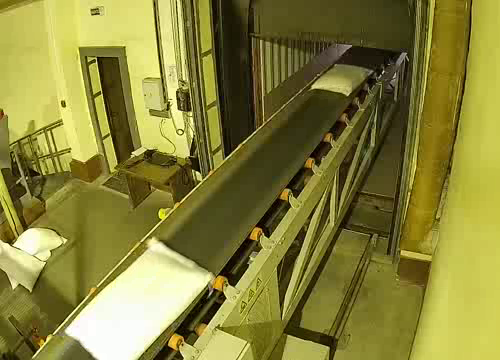bag: (60, 238, 219, 360), (308, 62, 376, 98)
